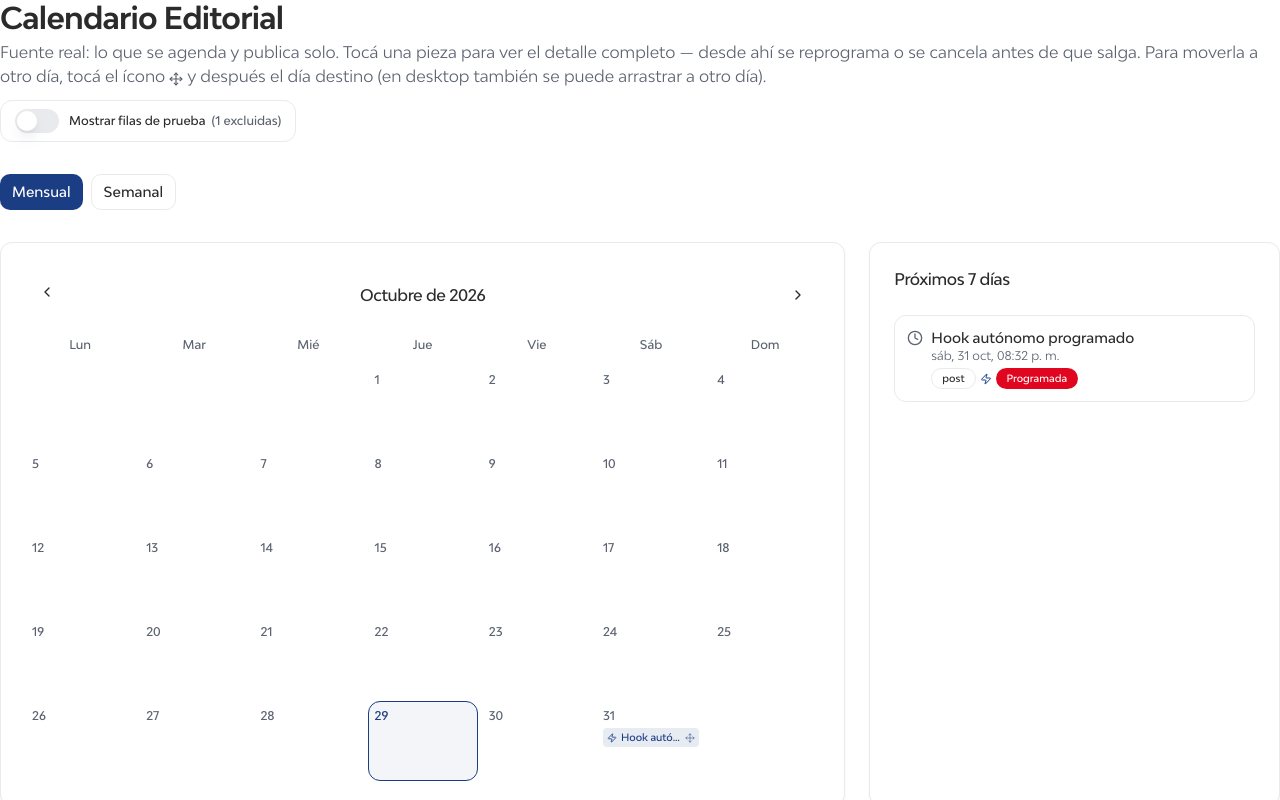
Test: Calendario Page › opens the shared detail dialog when clicking an upcoming piece
Click the button "Hook autónomo programado".
click(644, 738)  # box 607,730 -> 681,745
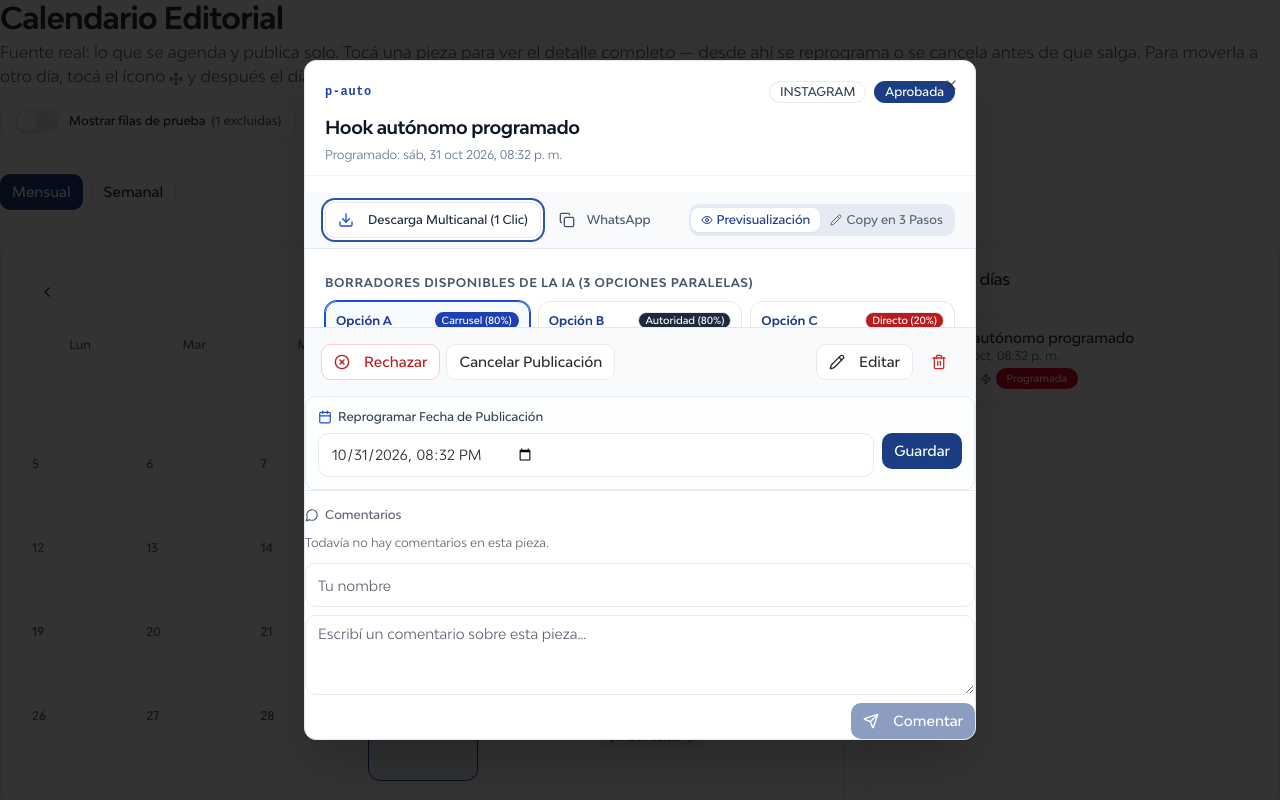
Check: the dialog is shown, box 304,60 -> 976,740
